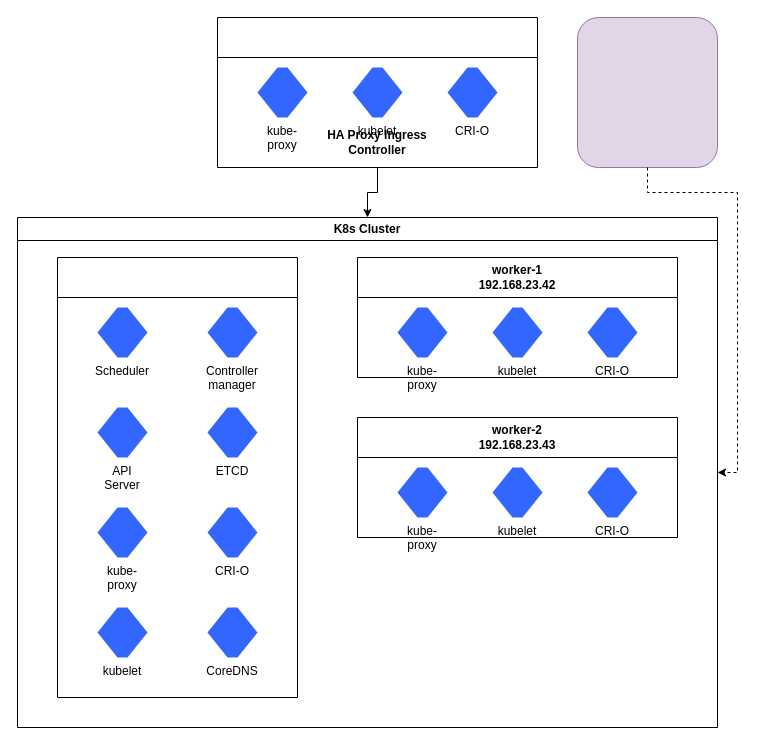
Image size: 763x745. Some labels were removed from this diagram. Each missing label, with the box of its shape:
master 192.168.23.41: (56, 256, 298, 698)
nfs 192.168.23.45: (576, 16, 718, 168)
route-ha 192.168.23.44: (216, 16, 538, 168)
